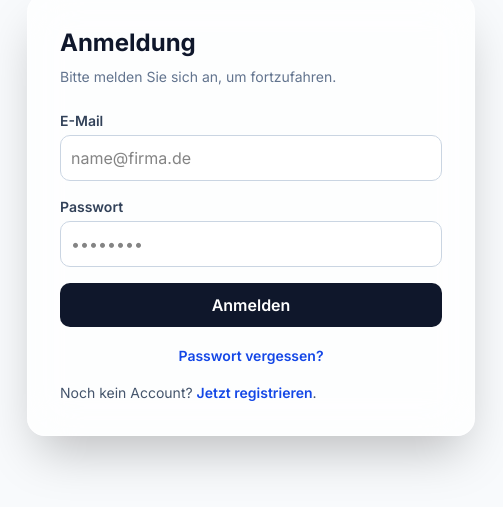
Login-Submit – Fehler › zeigt Fallback-Meldung, wenn kein Error-Text vorhanden
The width and height of the screenshot is (503, 507).
Step 1. Type "x@x.de" into the field with placeholder "name@firma.de" → point(251, 158), box top-left (60, 135), bottom-right (442, 181)
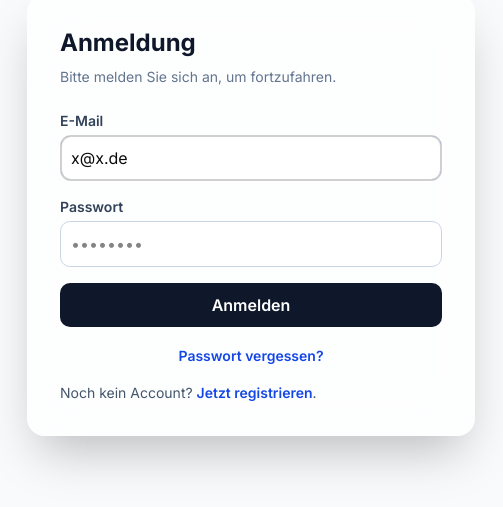
Step 2. Type "xxxxxx" into the password field with placeholder "••••••••" → point(251, 244), box top-left (60, 221), bottom-right (442, 267)
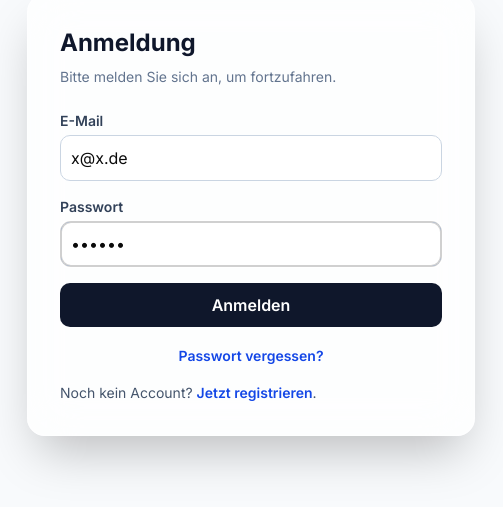
Step 3. Submit the form "E-Mail Passwort Anmelden Passwort vergessen?", box top-left (60, 111), bottom-right (442, 367)
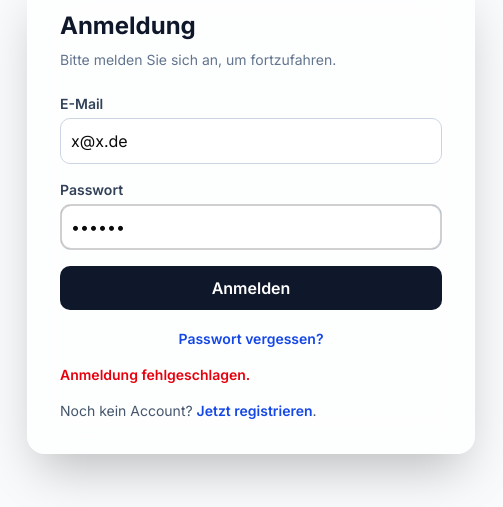
Expected: the text "Anmeldung fehlgeschlagen." is shown, top-left (60, 366), bottom-right (250, 382)
